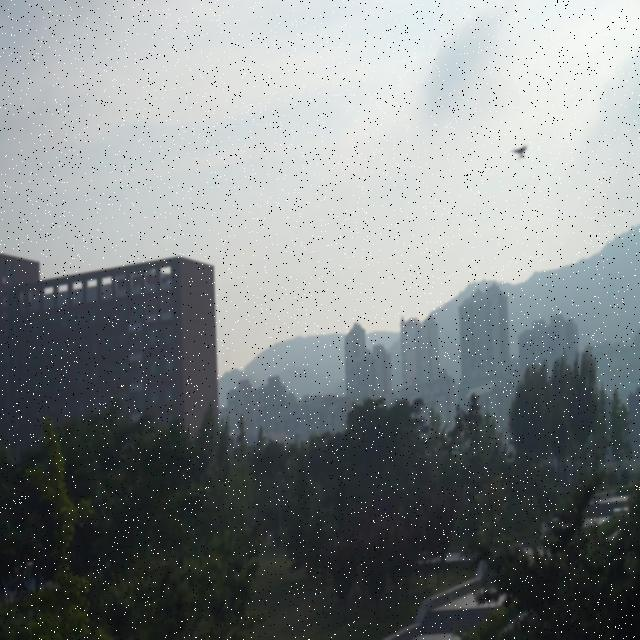UAV: (510, 144, 528, 161)
